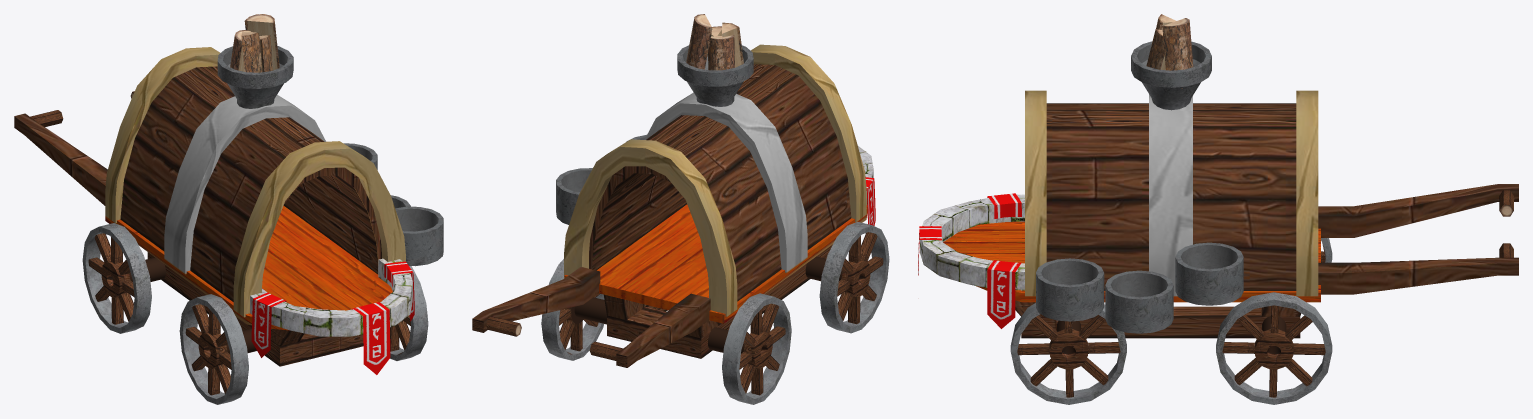
The model's file is Carigge.fbx.
The picture shows the model from 3 angles, left to right: view 1: azimuth 30°, elevation 25°; view 2: azimuth 150°, elevation 25°; view 3: azimuth 270°, elevation 25°; orthographic projection. The views are drawn at different scales.
Visible parts, largest first — view 1: Group1, Group2, FireWood; view 2: Group1, Group2, FireWood; view 3: Group1, Group2, FireWood.
Part boxes in pixels (<box>): Group1: <box>14,47,414,374</box>; Group2: <box>82,46,443,404</box>; FireWood: <box>230,14,279,72</box>; Group1: <box>472,44,875,367</box>; Group2: <box>541,45,889,404</box>; FireWood: <box>686,14,743,70</box>; Group1: <box>918,90,1518,338</box>; Group2: <box>920,41,1332,404</box>; FireWood: <box>1146,14,1193,88</box>.
Bounding box in the file's own units: 5.14 × 6.74 × 10.86.
